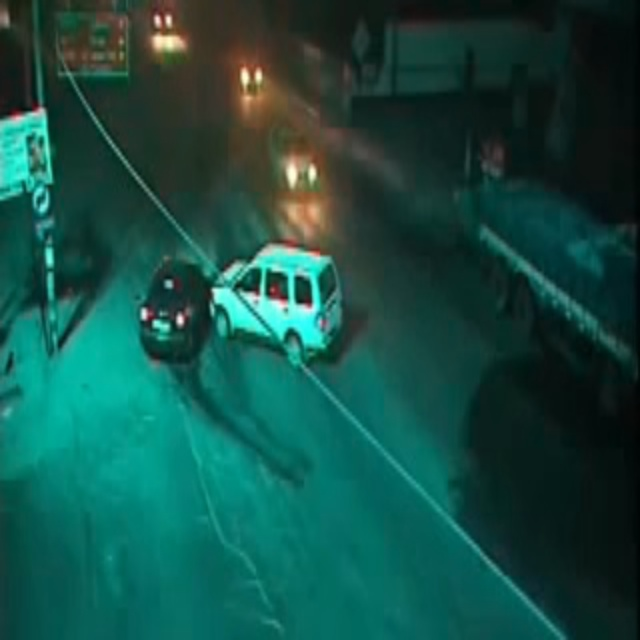acc: (135, 237, 345, 373)
